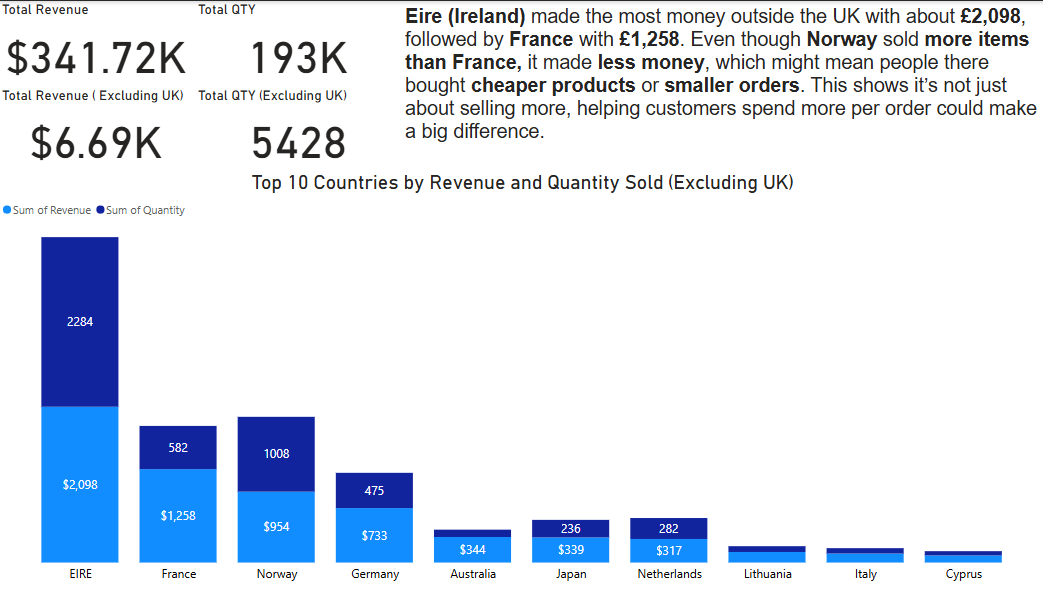

The dashboard page shown, as its layout file describes it:
{"tool":"powerbi","page":{"name":"Question 2","canvas":[1280,720],"ordinal":1},"visuals":[{"type":"columnChart","title":"Top 10 Countries by Revenue and Quantity Sold (Excluding UK)","fields":{"Category":["Online Retail.Country"],"Y":["Sum(Online Retail.Revenue)","Sum(Online Retail.Quantity)"]},"box":[0,207.8,1279.7,512.2],"z":0},{"type":"textbox","box":[491.8,0,787.9,207.8],"z":1000},{"type":"card","title":"Total Revenue ( Excluding UK)","fields":{"Values":["Sum(Online Retail.Revenue)"]},"box":[0,104.6,239.1,103.2],"z":2000},{"type":"card","title":"Total QTY (Excluding UK)","fields":{"Values":["Sum(Online Retail.Quantity)"]},"box":[239.1,104.6,252.7,103.2],"z":3000},{"type":"card","title":"Total Revenue","fields":{"Values":["Sum(Online Retail.Revenue)"]},"box":[0,0,239.1,104.1],"z":4000},{"type":"card","title":"Total QTY","fields":{"Values":["Sum(Online Retail.Quantity)"]},"box":[239.1,0,252.7,104.6],"z":5000}]}

Visuals, with their boxes in screenshot pixels (x1, y1, x2, y2), scaled from the page's 1280x720 canvas onto the 1043x590 screenshot:
"Top 10 Countries by Revenue and Quantity Sold (Excluding UK)" columnChart: x1=0 y1=170 x2=1042 y2=589
textbox: x1=401 y1=0 x2=1042 y2=170
"Total Revenue ( Excluding UK)" card: x1=0 y1=86 x2=195 y2=170
"Total QTY (Excluding UK)" card: x1=195 y1=86 x2=401 y2=170
"Total Revenue" card: x1=0 y1=0 x2=195 y2=85
"Total QTY" card: x1=195 y1=0 x2=401 y2=86
